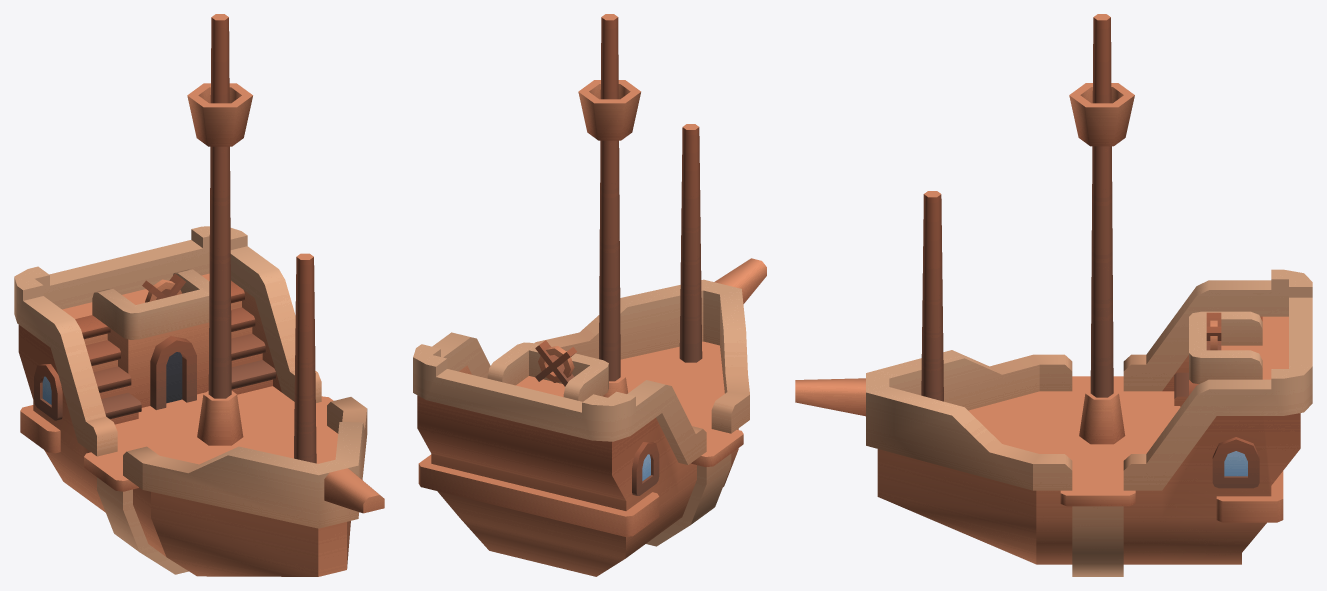
File: ship_small_hull_brown.glb
3 views of the same model, side by side, from view 1: azimuth 30°, elevation 25°; view 2: azimuth 150°, elevation 25°; view 3: azimuth 270°, elevation 25° (orthographic). The views are drawn at different scales.
Visible parts, largest first — view 1: ship_small_brown; view 2: ship_small_brown; view 3: ship_small_brown.
Part boxes in pixels (x1,y1,x2,y2): ship_small_brown: (14,14,384,576); ship_small_brown: (413,14,766,576); ship_small_brown: (795,14,1312,576).
Bounding box in the file's own units: 4.8 × 9.96 × 8.8.
1 material, 1 textured.
